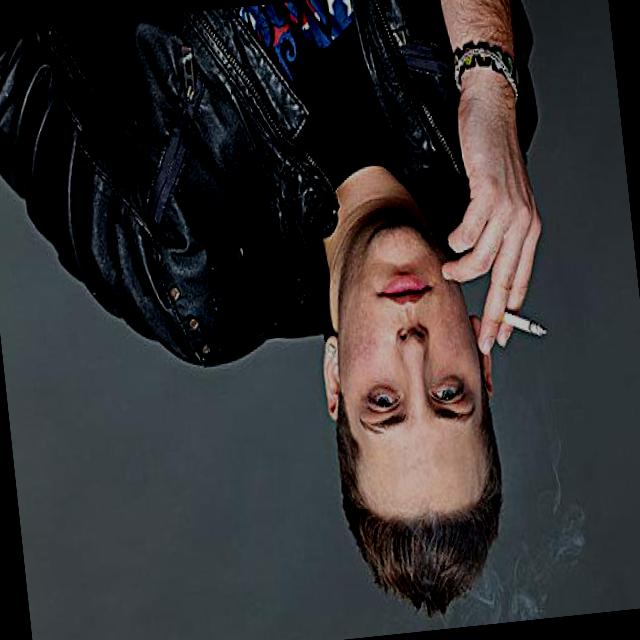cigarette: (513, 301, 547, 358)
